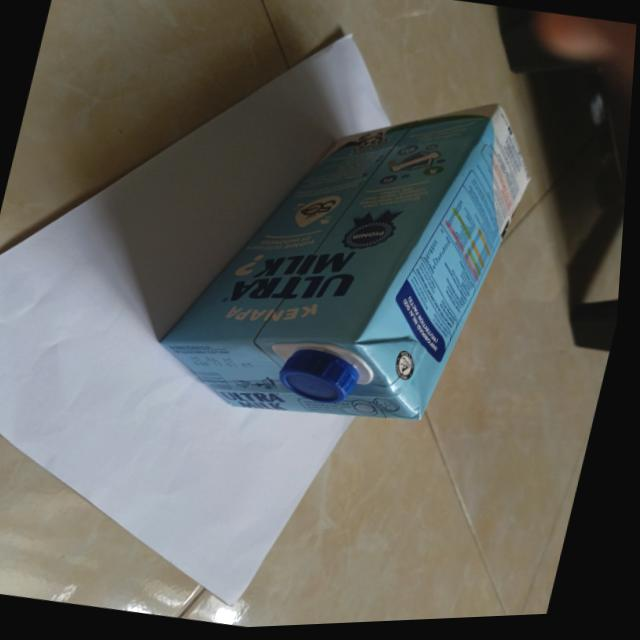indomie-mie-kocok-bandung: (145, 56, 557, 457)
